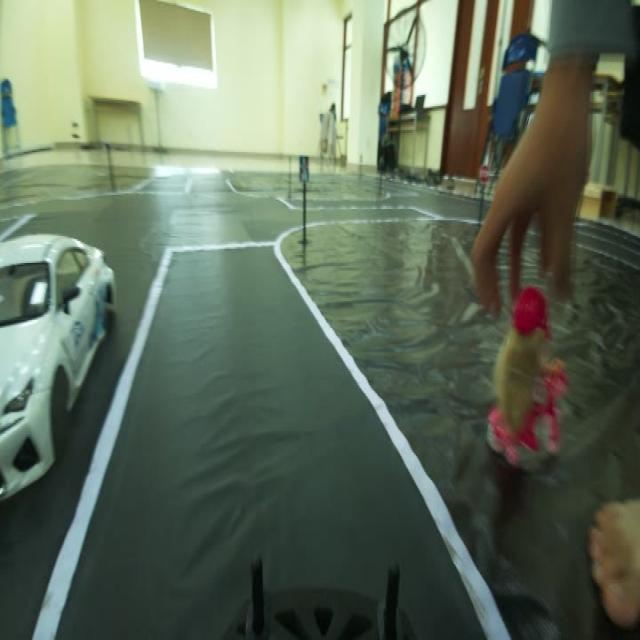car: (3, 115, 120, 512)
